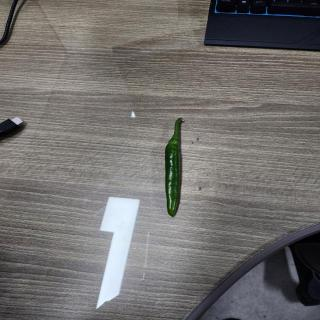Cabai Hijau: (162, 105, 200, 238)
